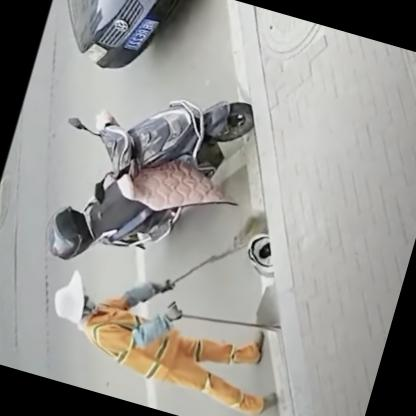Human Body: (34, 242, 313, 415)
